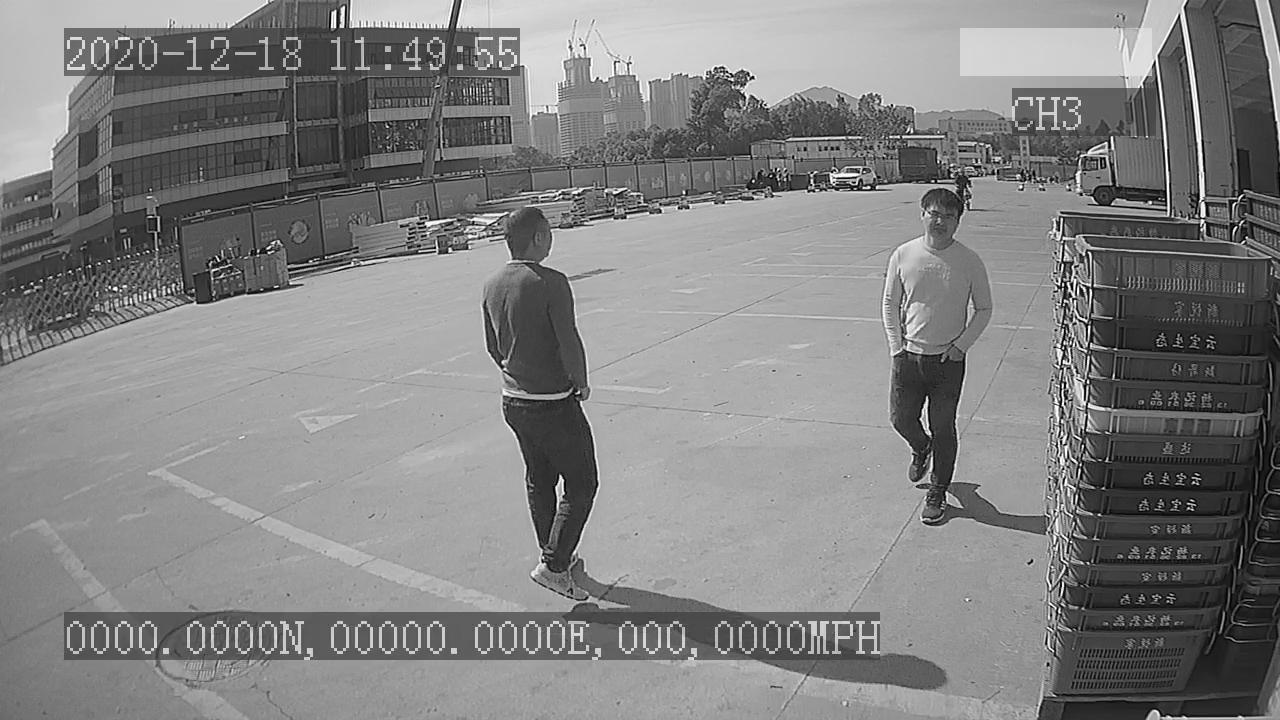person: (476, 201, 609, 606), (877, 183, 997, 529)
